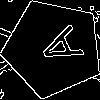A: (28, 23, 85, 73)
